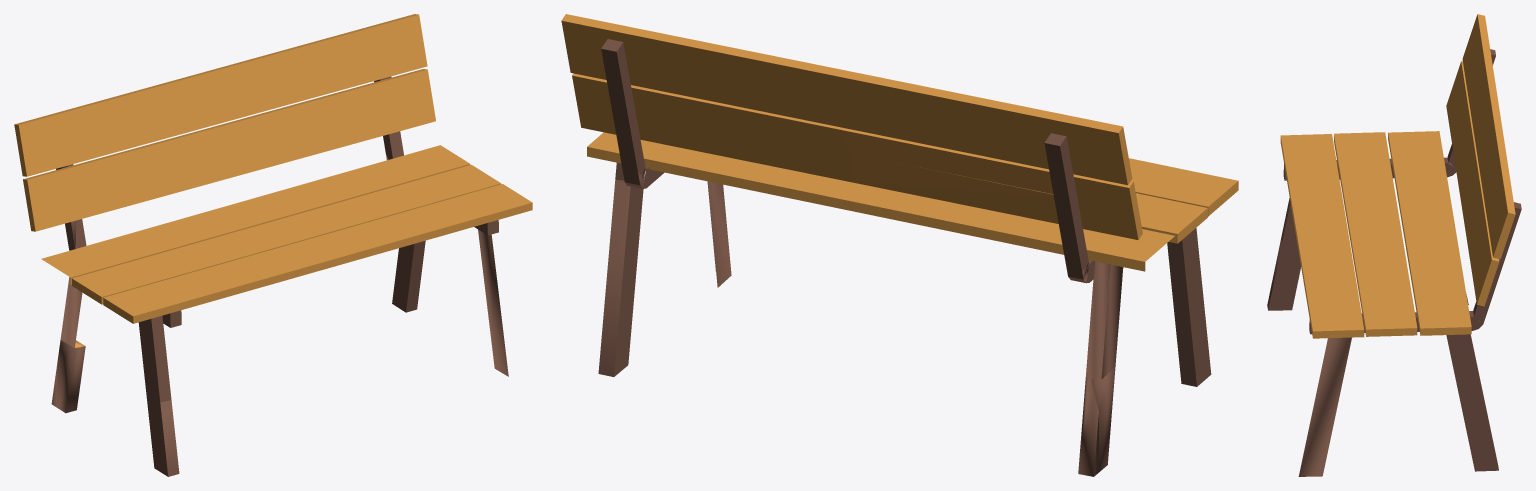
File: node_001_chunks.glb
3 views of the same model, side by side, from view 1: azimuth 30°, elevation 25°; view 2: azimuth 150°, elevation 25°; view 3: azimuth 270°, elevation 25° (orthographic). The views are drawn at different scales.
Parts seen in each view (by area): view 1: Node.029, Node.023, Node.011, Node.017, Node.005, Node.002_cell.021, Node.002_cell.022, Node.002_cell.004, Node.018, Node.076, Node.089, Node.002_cell (+9 smaller); view 2: Node.002_cell.026, Node.028, Node.002_cell.021, Node.002_cell.022, Node.005, Node.022, Node.007, Node.002_cell.004, Node.002_cell.006, Node.017, Node.095, Node.076 (+13 smaller); view 3: Node.017, Node.011, Node.005, Node.023, Node.088, Node.002_cell.022, Node.029, Node.002_cell.006, Node.002_cell.021, Node.002_cell.014, Node.002_cell.026, Node.002_cell.004 (+11 smaller).
Part boxes in pixels (box(x1,y1,x2,y2)): Node.029: box(29, 70, 435, 231); Node.023: box(19, 17, 426, 164); Node.011: box(72, 164, 500, 296); Node.017: box(115, 184, 517, 311); Node.005: box(41, 145, 469, 277); Node.002_cell.021: box(261, 14, 435, 115); Node.002_cell.022: box(63, 146, 272, 255); Node.002_cell.004: box(15, 112, 75, 199); Node.018: box(153, 202, 532, 317); Node.076: box(138, 319, 168, 476); Node.089: box(478, 229, 508, 376); Node.002_cell: box(57, 340, 85, 413); Node.002_cell.026: box(805, 63, 1059, 193); Node.028: box(580, 87, 1138, 239); Node.002_cell.021: box(561, 14, 781, 122); Node.002_cell.022: box(850, 153, 1093, 270); Node.005: box(587, 132, 1174, 261); Node.022: box(562, 21, 1127, 184); Node.007: box(587, 147, 1145, 271); Node.002_cell.004: box(1056, 114, 1133, 208); Node.002_cell.006: box(598, 179, 634, 376); Node.017: box(1129, 158, 1237, 206); Node.095: box(614, 173, 644, 376); Node.076: box(1182, 228, 1211, 386); Node.017: box(1281, 134, 1363, 331); Node.011: box(1334, 133, 1417, 329); Node.005: box(1388, 131, 1471, 328); Node.023: box(1462, 36, 1507, 249); Node.088: box(1298, 337, 1351, 476); Node.002_cell.022: box(1402, 98, 1470, 231); Node.029: box(1446, 78, 1491, 303); Node.002_cell.006: box(1452, 321, 1498, 471); Node.002_cell.021: box(1478, 135, 1521, 301); Node.002_cell.014: box(1267, 238, 1300, 310); Node.002_cell.026: box(1465, 36, 1502, 165); Node.002_cell.004: box(1455, 14, 1488, 101).
Size of the model in its own units: 2.57 by 1.62 by 1.37.
